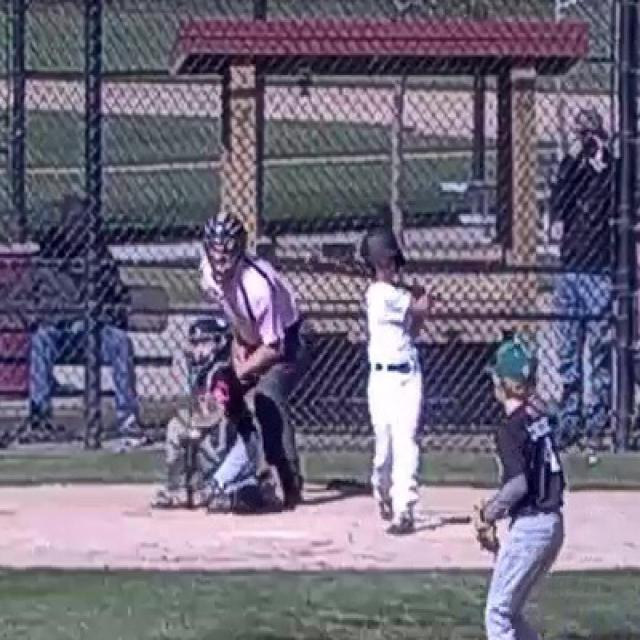baseball: (189, 429, 201, 439)
